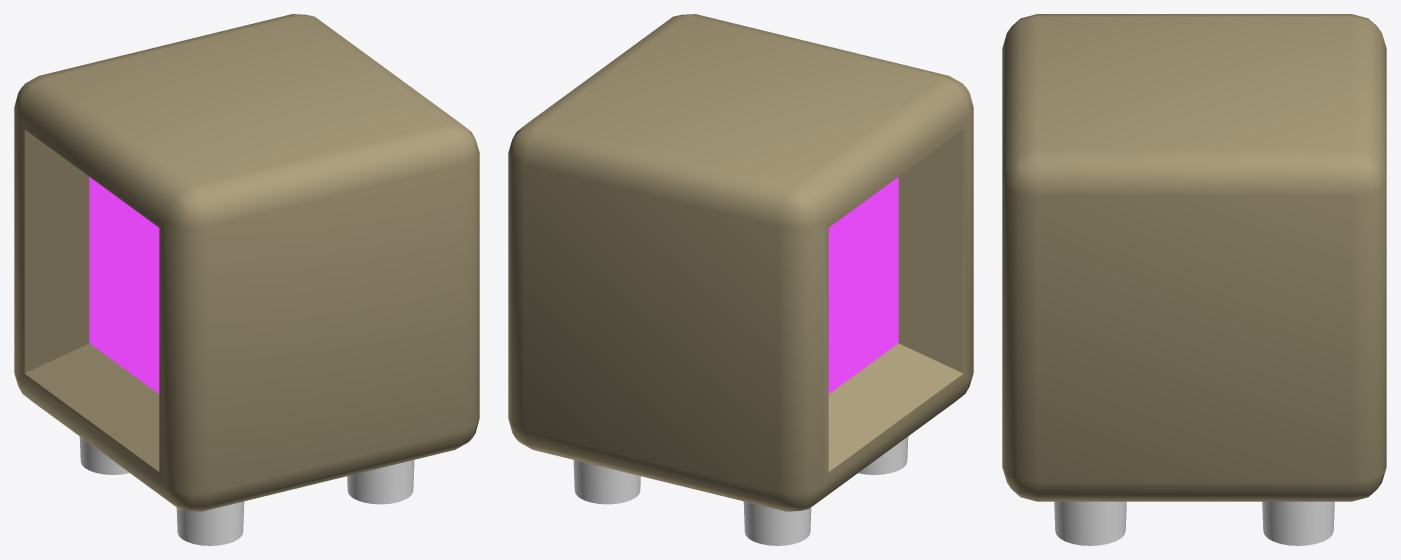
The model's file is peggy.gltf.
3 renders of one model, left to right at view 1: azimuth 30°, elevation 25°; view 2: azimuth 150°, elevation 25°; view 3: azimuth 270°, elevation 25°, orthographic. The views are drawn at different scales.
Visible parts, largest first — view 1: TV; view 2: TV; view 3: TV.
Part boxes in pixels (x1,y1,x2,y2): TV: [14, 14, 479, 545]; TV: [508, 14, 973, 545]; TV: [1002, 14, 1386, 545].
Size of the model in its own units: 0.6597 by 0.7628 by 0.6597.
